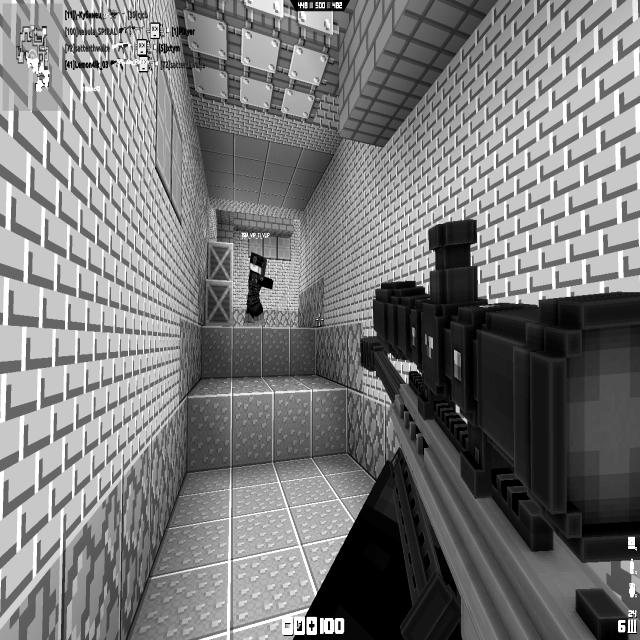Head: (249, 251, 266, 279)
Player: (245, 251, 273, 321)
